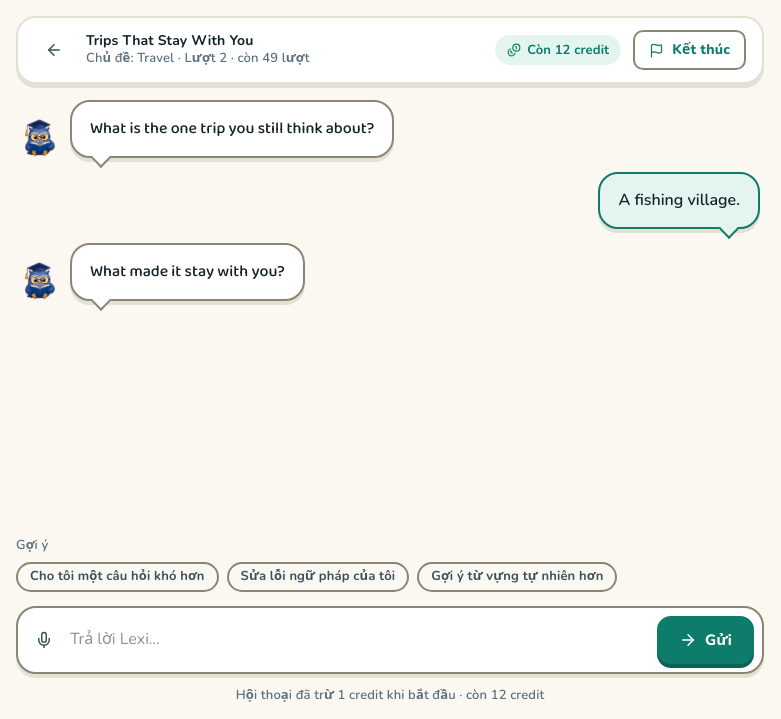
Test: CustomSpeakingConversationPage — the chat › sends a turn and renders the NEXT AI message from the same response
Type "I love coastal towns." into the field with placeholder "Trả lời Lexi…" at coordinates (360, 640), box [70,620,649,660]
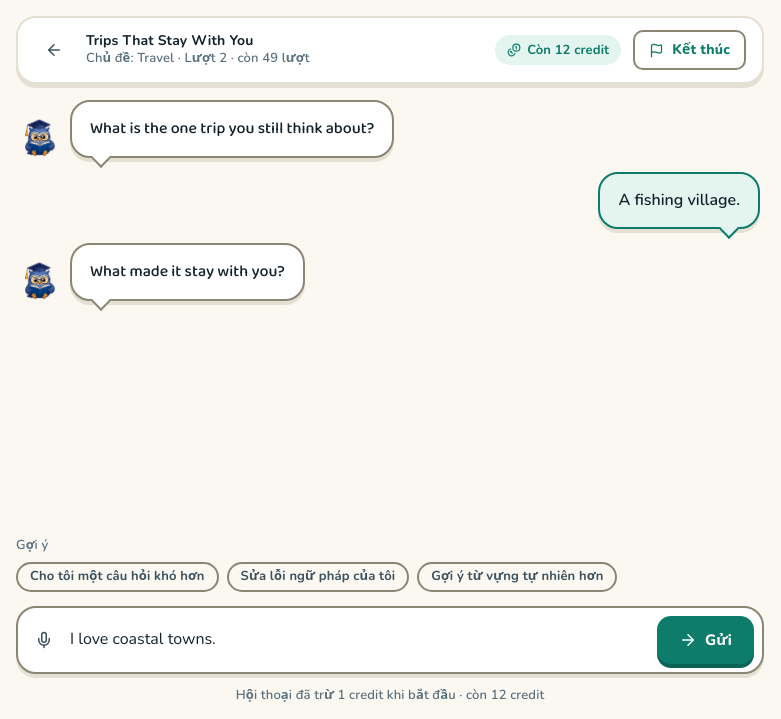
Click the button "Gửi" at coordinates (706, 640), box [657,616,754,664]
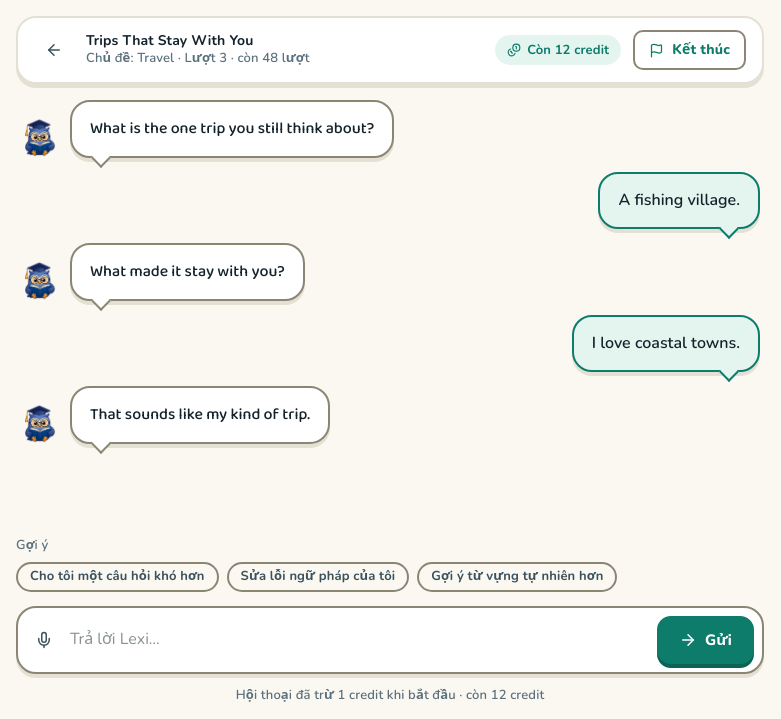
Now the text "That sounds like my kind of trip." is shown, box [90,402,310,428]
Now the text "I love coastal towns." is shown, box [592,331,740,356]
